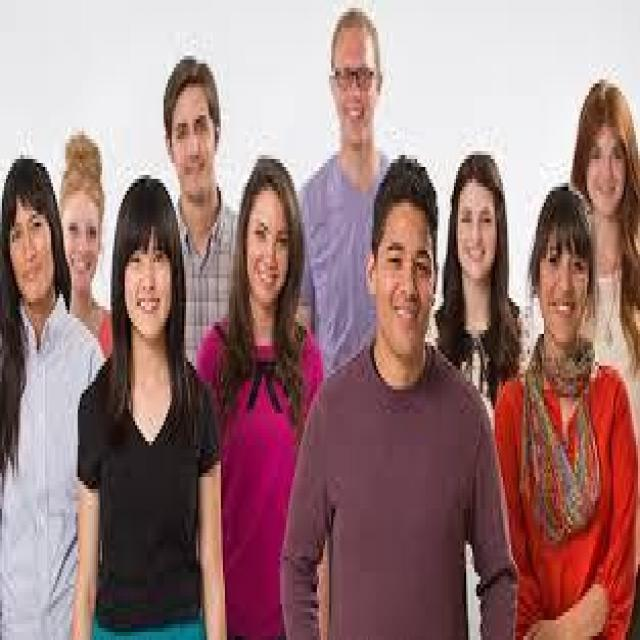person: (490, 123, 626, 636), (346, 143, 472, 636), (106, 159, 221, 624), (0, 135, 84, 608), (216, 124, 302, 568), (156, 32, 242, 334), (562, 43, 638, 370), (442, 103, 517, 374), (43, 91, 116, 350), (305, 8, 366, 302)
